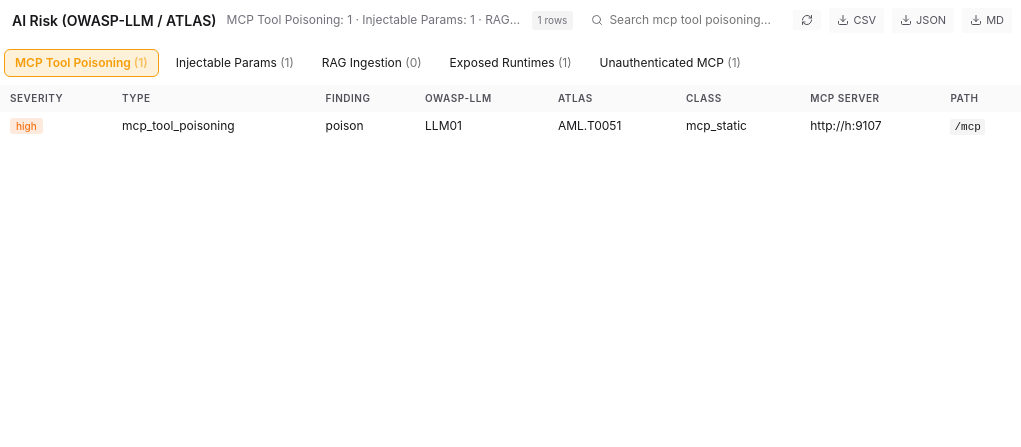
it: AiRiskTable › empty sheet (RAG Ingestion) shows the empty-state label
The width and height of the screenshot is (1021, 447).
Check: the text "mcp_tool_poisoning" is shown, box [122,116,235,134]
Click the button "RAG Ingestion (0)" at (372, 62), box [311,48,433,76]
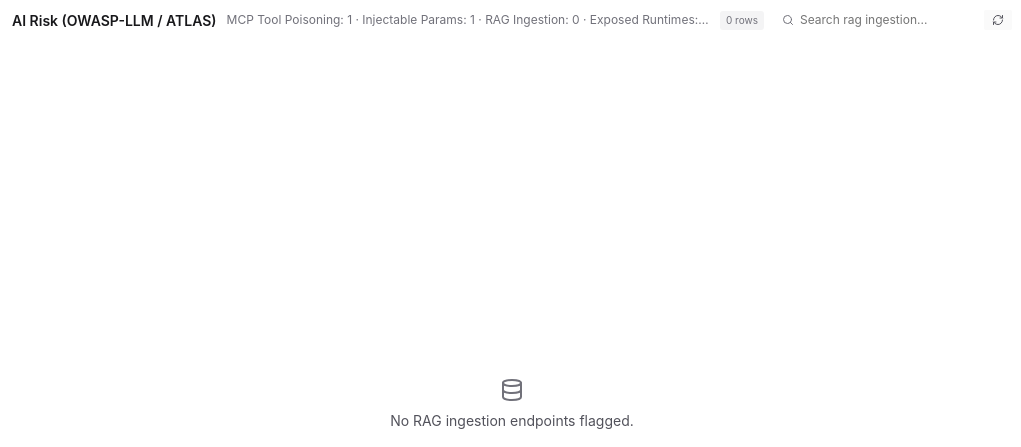
Check: the text "No RAG ingestion endpoints flagged." is shown, box [390,410,634,430]
